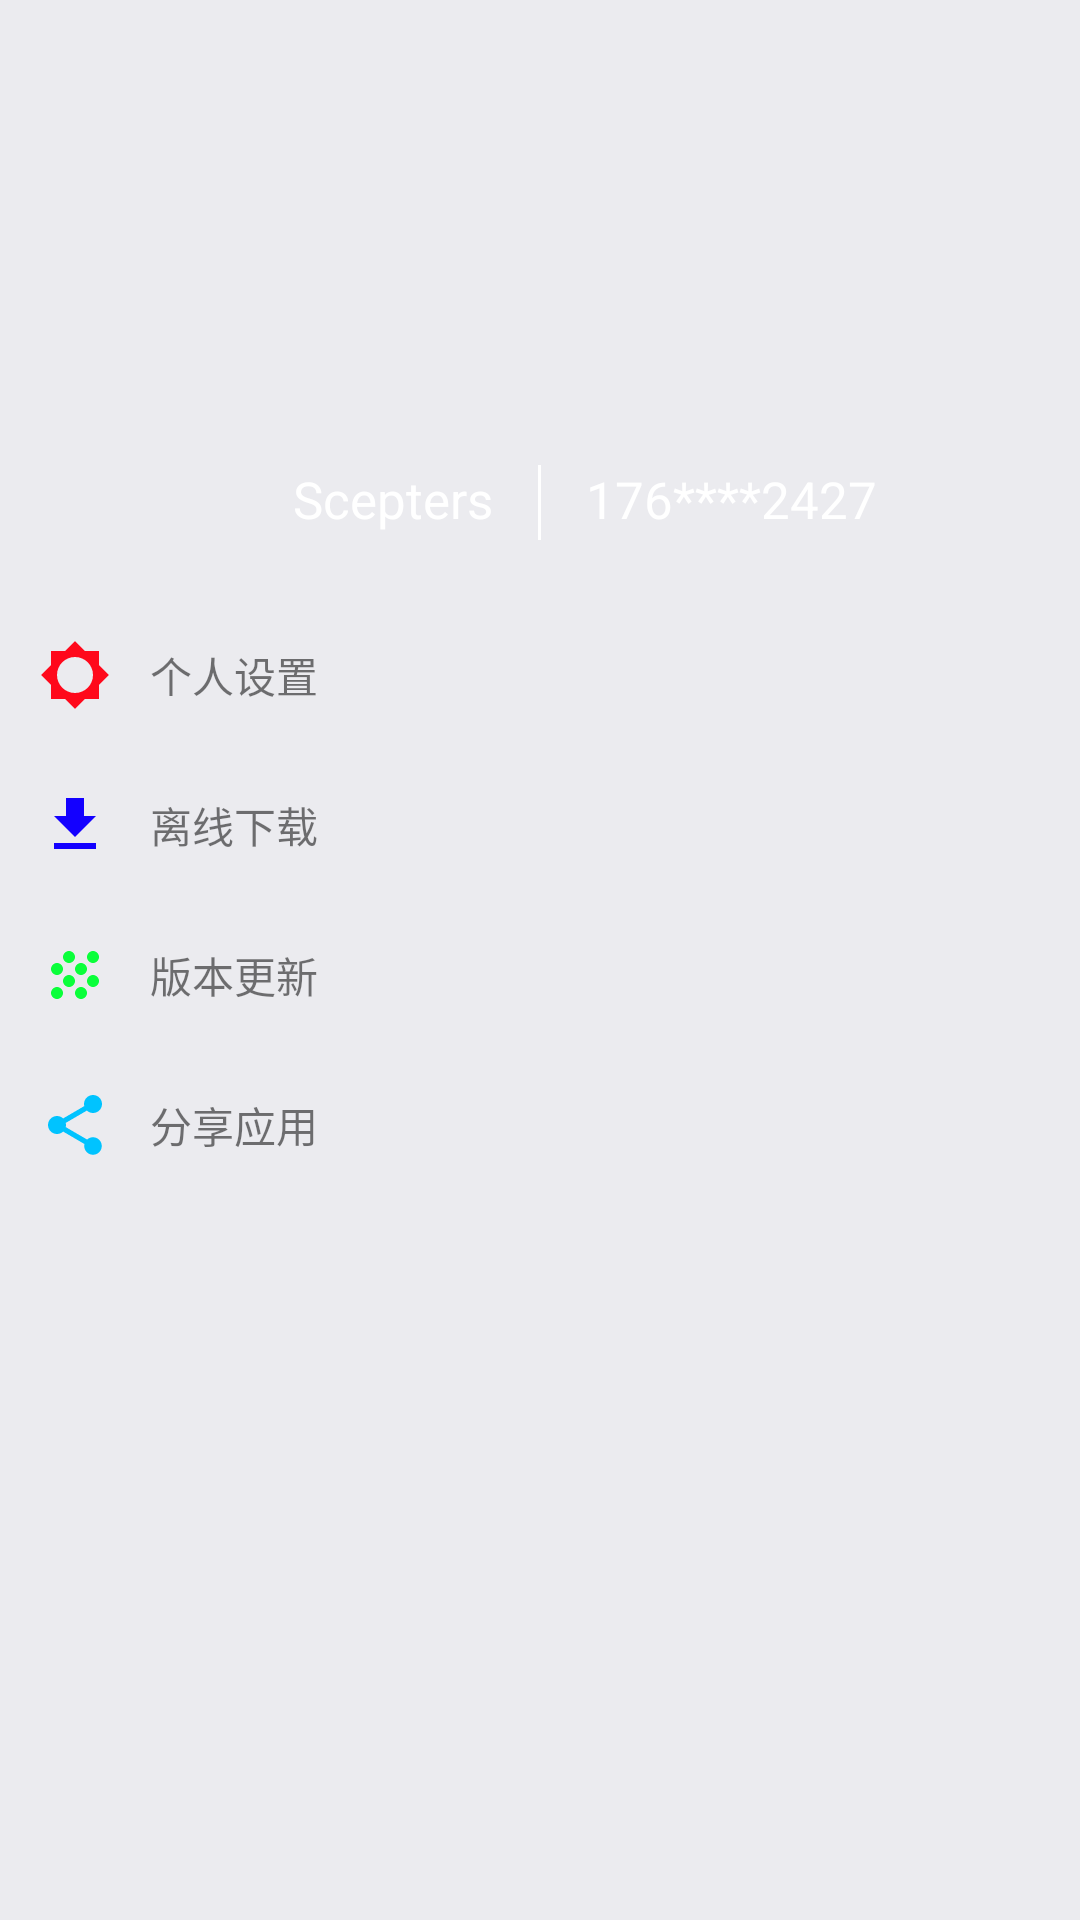

Screen size 1080 × 1920. Icon name, then its center in pixels as (x=x, y=y):
get app: (x=75, y=823)
share: (x=75, y=1125)
shezhi: (x=75, y=675)
